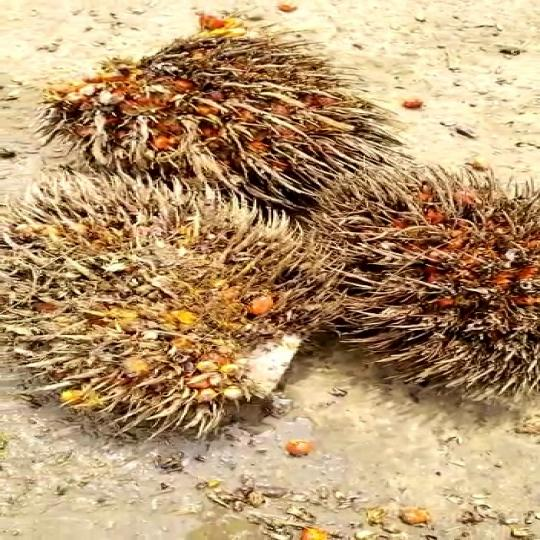terlalu masak: (0, 197, 337, 439), (52, 12, 338, 196), (305, 182, 540, 382)
